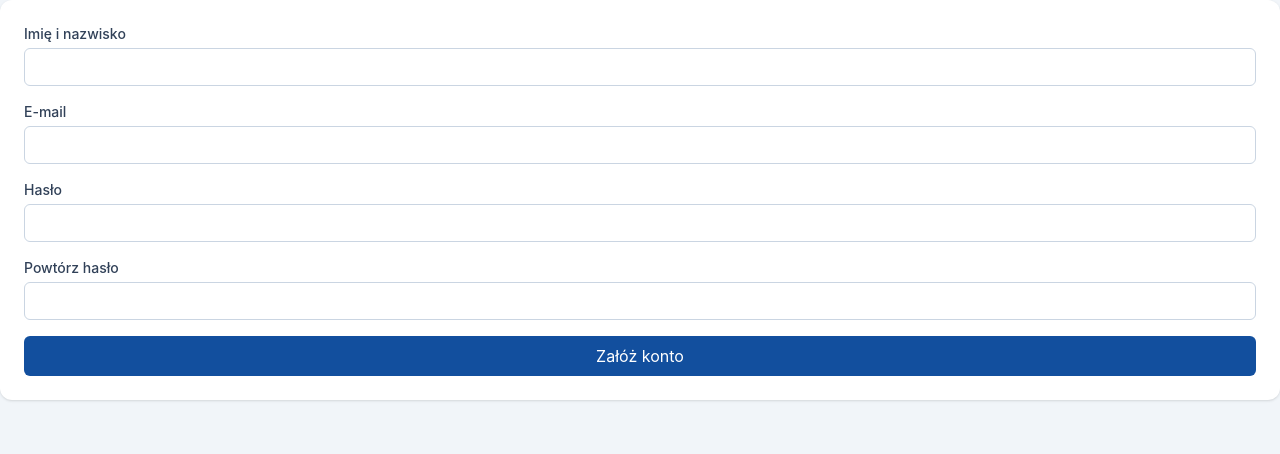
Test: RegisterForm › pokazuje komunikat, gdy e-mail jest już zajęty
Type "Ada Lovelace" into the field labelled "Imię i nazwisko".
click(640, 67); type("Ada Lovelace")  # box [24,48,1256,86]
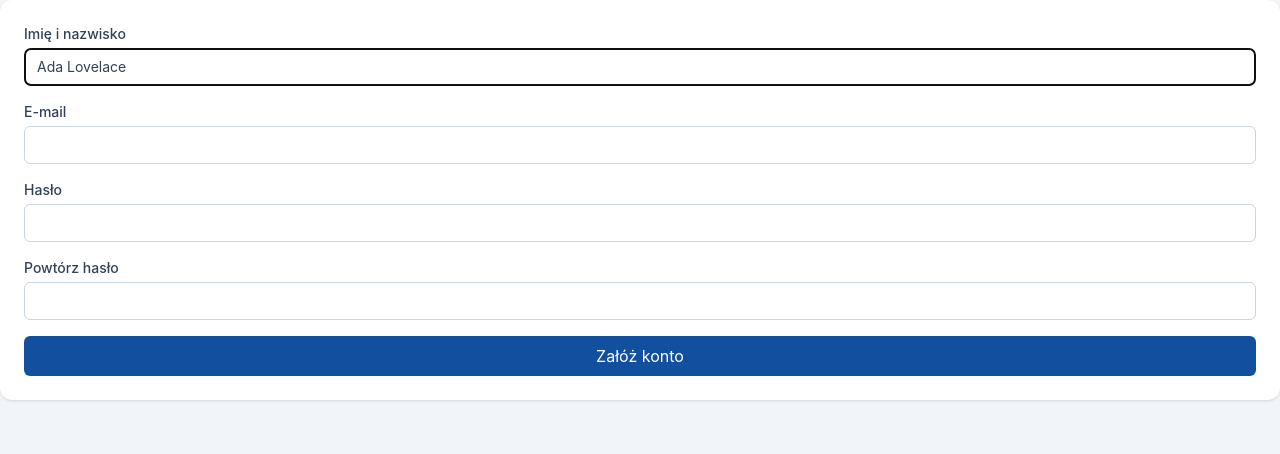
Type "ada@example.com" into the field labelled "E-mail".
click(640, 145); type("ada@example.com")  # box [24,126,1256,164]
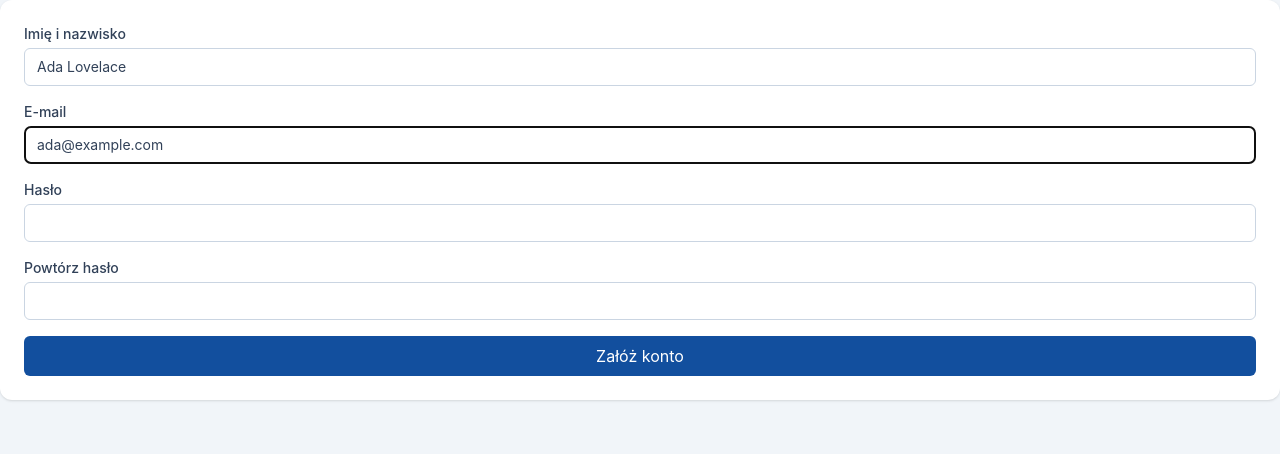
Type "Haslo12345!" into the password field labelled "Hasło".
click(640, 223); type("Haslo12345!")  # box [24,204,1256,242]
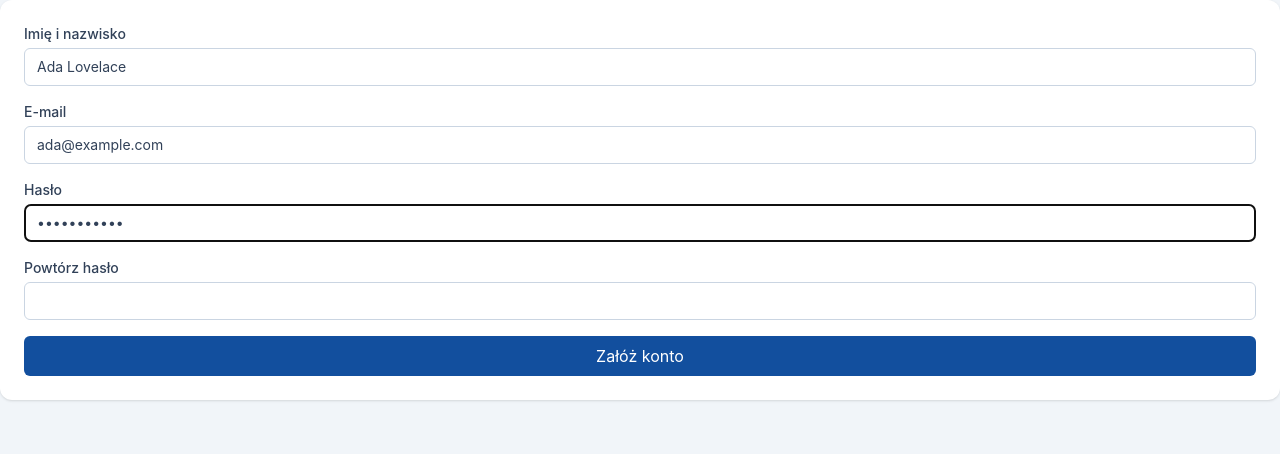
Type "Haslo12345!" into the password field labelled "Powtórz hasło".
click(640, 301); type("Haslo12345!")  # box [24,282,1256,320]
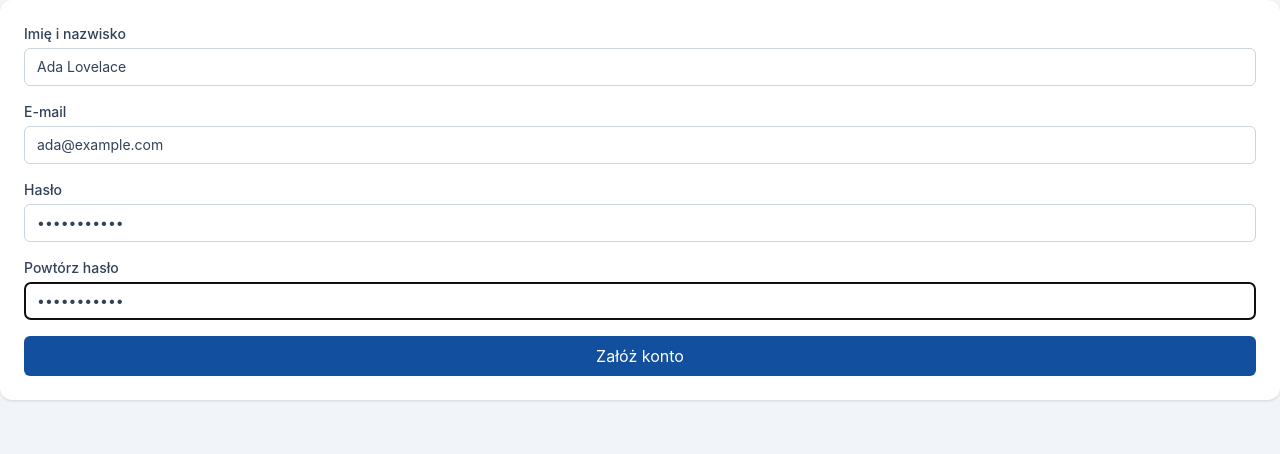
Click the button "Załóż konto".
click(640, 356)  # box [24,336,1256,376]
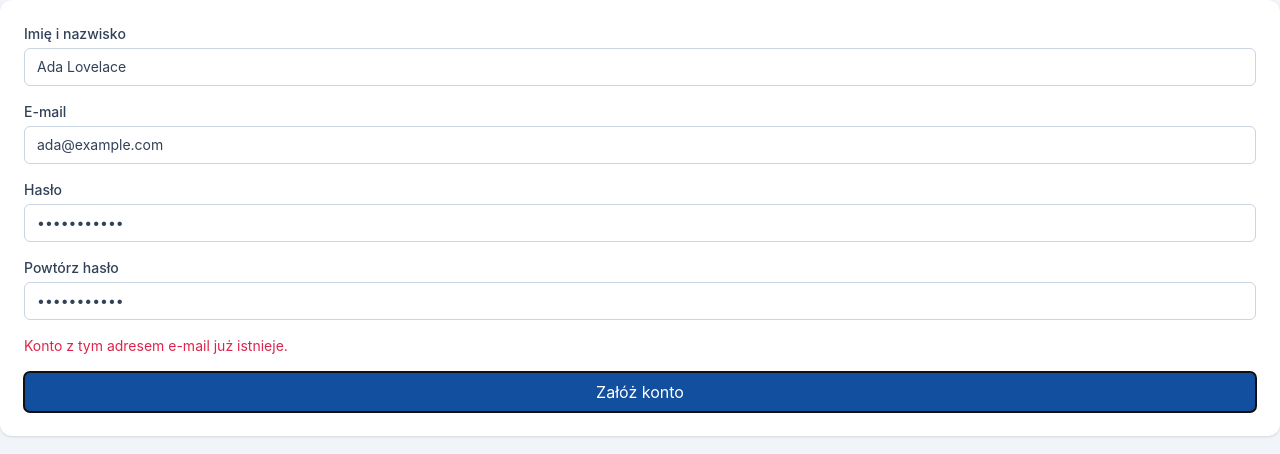
Now the message reads "Konto z tym adresem e-mail już istnieje.", box [24,337,288,354]
